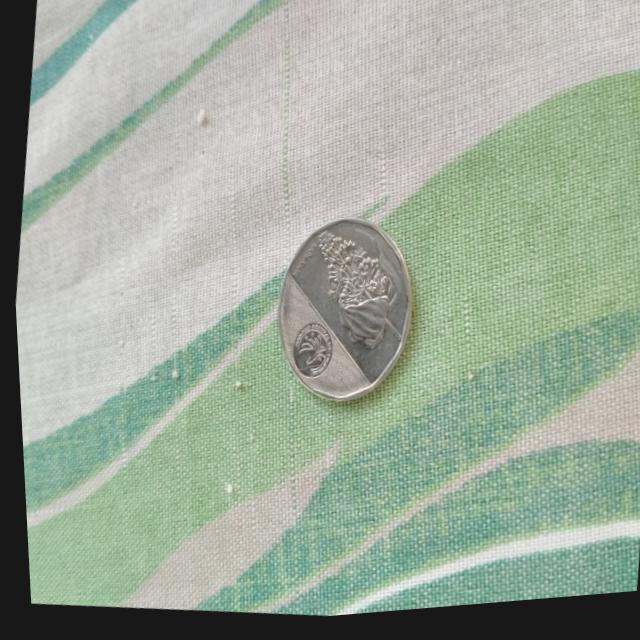10_New_Back: (294, 222, 418, 362)
